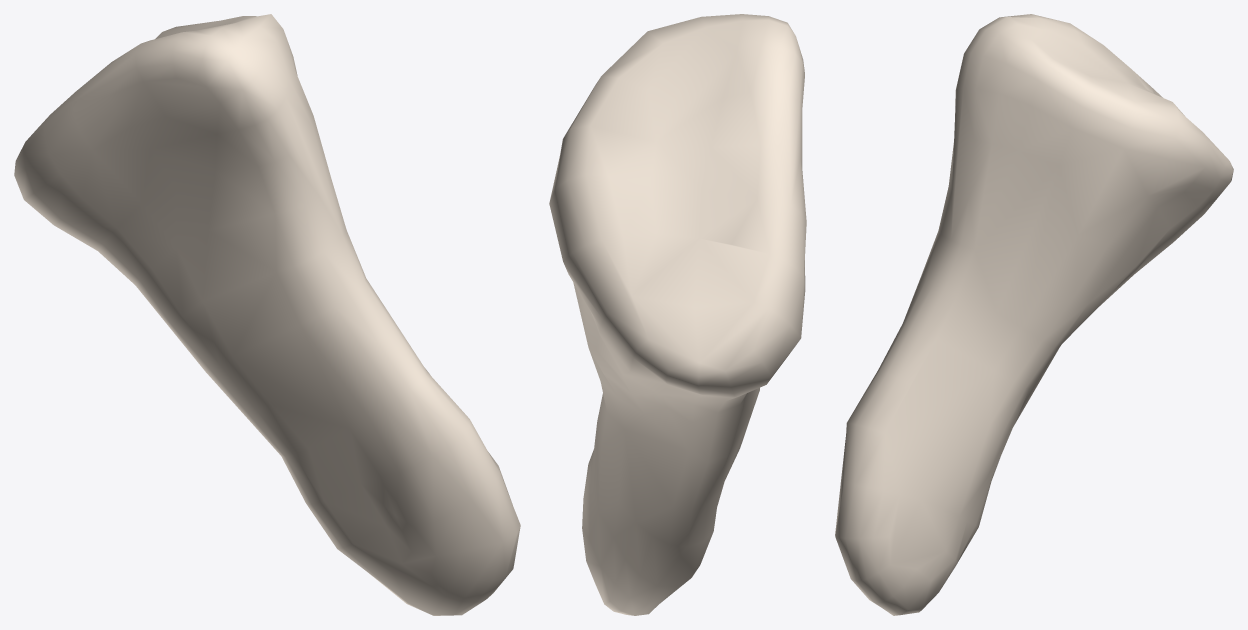
The model's file is left_digit_1_distal.glb.
3 renders of one model, left to right at view 1: azimuth 30°, elevation 25°; view 2: azimuth 150°, elevation 25°; view 3: azimuth 270°, elevation 25°, orthographic. The views are drawn at different scales.
Parts seen in each view (by area): view 1: Distal phalanx of 1st finger.r; view 2: Distal phalanx of 1st finger.r; view 3: Distal phalanx of 1st finger.r.
Boxes of the visible parts, <box> form: Distal phalanx of 1st finger.r: <box>14,14,520,615</box>; Distal phalanx of 1st finger.r: <box>549,14,806,615</box>; Distal phalanx of 1st finger.r: <box>835,14,1233,615</box>.
Bounding box in the file's own units: 0.0133 × 0.0227 × 0.0158.
